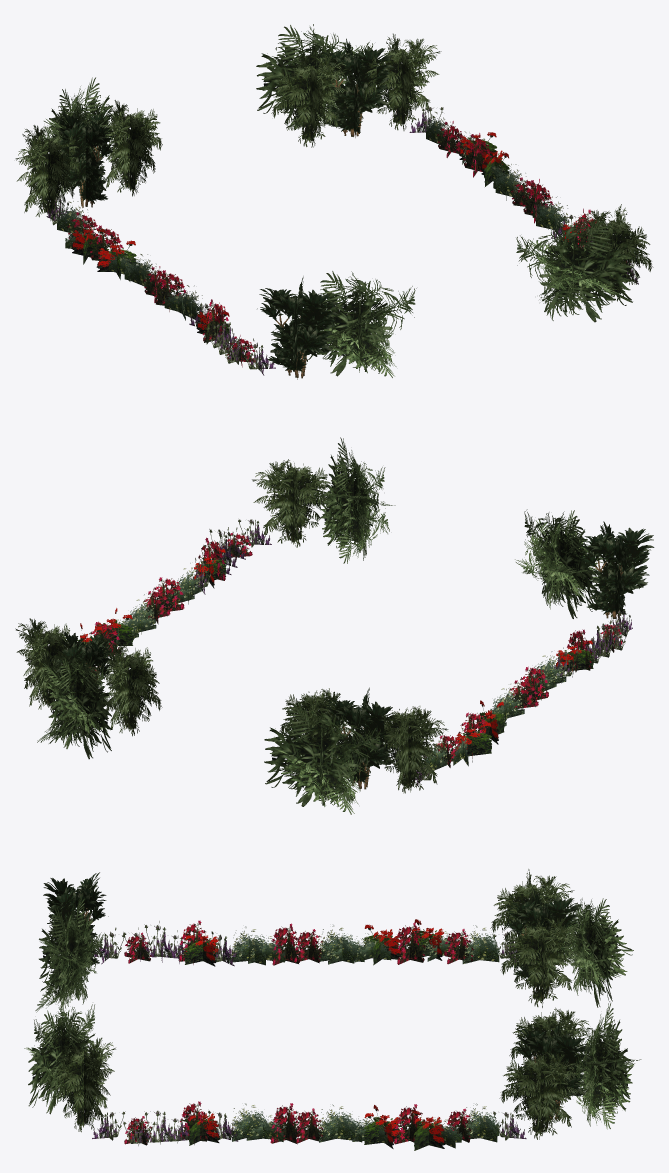
Rendered from luxortrees01_lvs.obj.
The picture shows the model from 3 angles, top to bottom: view 1: azimuth 30°, elevation 25°; view 2: azimuth 150°, elevation 25°; view 3: azimuth 270°, elevation 25°; orthographic projection.
Visible parts, largest first — view 1: luxortrees01_lvS; view 2: luxortrees01_lvS; view 3: luxortrees01_lvS.
Boxes of the visible parts, x1=… form: luxortrees01_lvS: x1=15, y1=24, x2=653, y2=379; luxortrees01_lvS: x1=15, y1=437, x2=654, y2=814; luxortrees01_lvS: x1=24, y1=869, x2=641, y2=1150.
Bounding box in the file's own units: 17.26 × 4.33 × 22.16.
7 materials, 7 textured.
